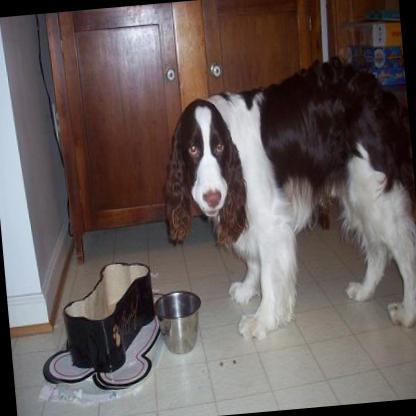English_springer: (150, 56, 416, 350)
